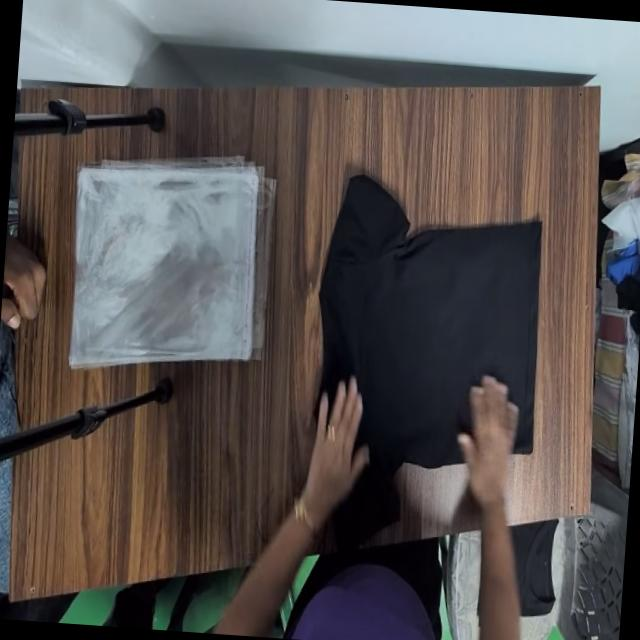new-garment: (319, 176, 540, 469)
